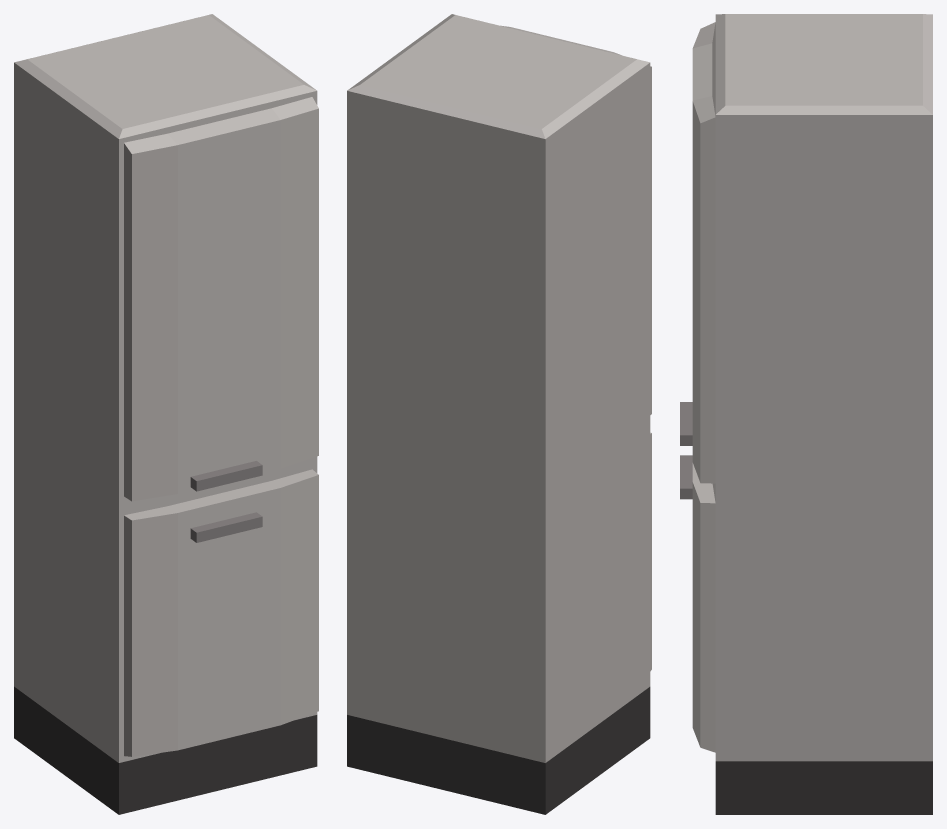
File: fridge.glb
3 renders of one model, left to right at view 1: azimuth 30°, elevation 25°; view 2: azimuth 150°, elevation 25°; view 3: azimuth 270°, elevation 25°, orthographic. The views are drawn at different scales.
Visible parts, largest first — view 1: fridge; view 2: fridge; view 3: fridge.
Boxes of the visible parts, x1=… form: fridge: x1=14, y1=14, x2=318, y2=814; fridge: x1=347, y1=14, x2=651, y2=814; fridge: x1=680, y1=14, x2=932, y2=814.
Bounding box in the file's own units: 0.6014 × 1.97 × 0.6402.
1 material, 1 textured.
